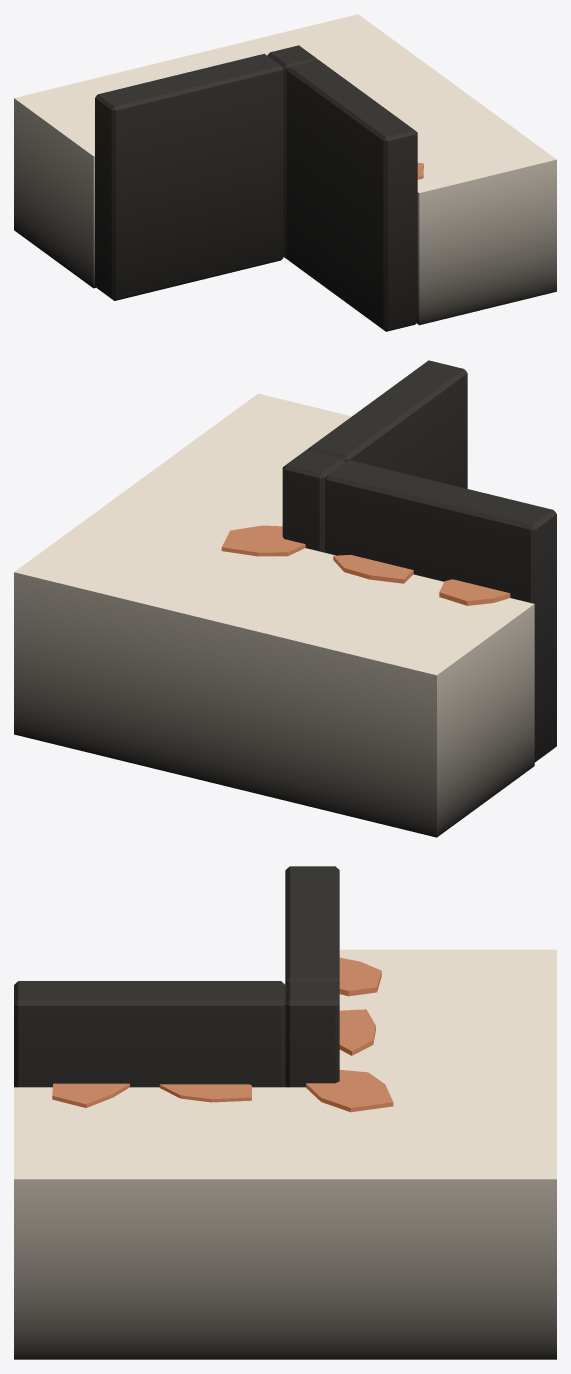
File: SM_VKI_Ground_Lava_OXXX.fbx
3 views of the same model, one above another, from view 1: azimuth 30°, elevation 25°; view 2: azimuth 150°, elevation 25°; view 3: azimuth 270°, elevation 25° (orthographic). The views are drawn at different scales.
Parts seen in each view (by area): view 1: SM_VKI_Ground_Lava_OXXX.001; view 2: SM_VKI_Ground_Lava_OXXX.001; view 3: SM_VKI_Ground_Lava_OXXX.001.
Part boxes in pixels (left/top/right/bottom): SM_VKI_Ground_Lava_OXXX.001: left=14, top=14, right=556, bottom=331; SM_VKI_Ground_Lava_OXXX.001: left=14, top=360, right=556, bottom=837; SM_VKI_Ground_Lava_OXXX.001: left=14, top=866, right=556, bottom=1359.
Bounding box in the file's own units: 1.5 × 0.81 × 1.5.
